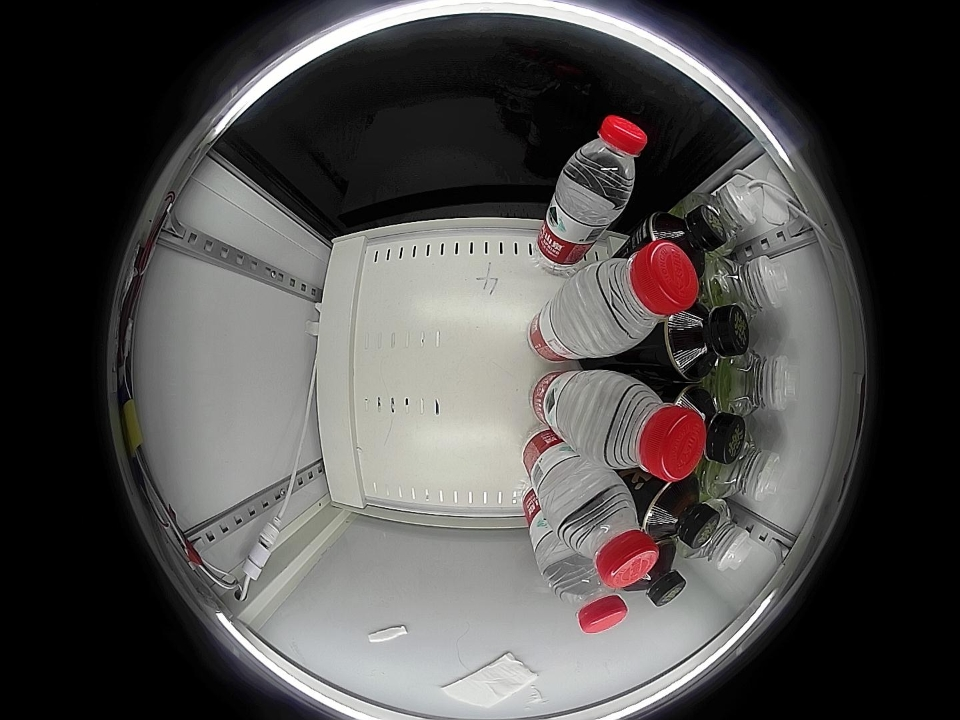jianjiao: (705, 253, 789, 325), (705, 431, 783, 501), (720, 348, 797, 417), (692, 180, 758, 251), (688, 503, 752, 572)
nongfushanquan: (568, 238, 698, 355), (575, 370, 706, 482), (552, 479, 658, 588), (560, 115, 647, 207), (546, 560, 629, 635)
rancha-1: (665, 303, 751, 383), (675, 384, 746, 464), (642, 478, 720, 549), (647, 204, 726, 267), (634, 542, 686, 607)
